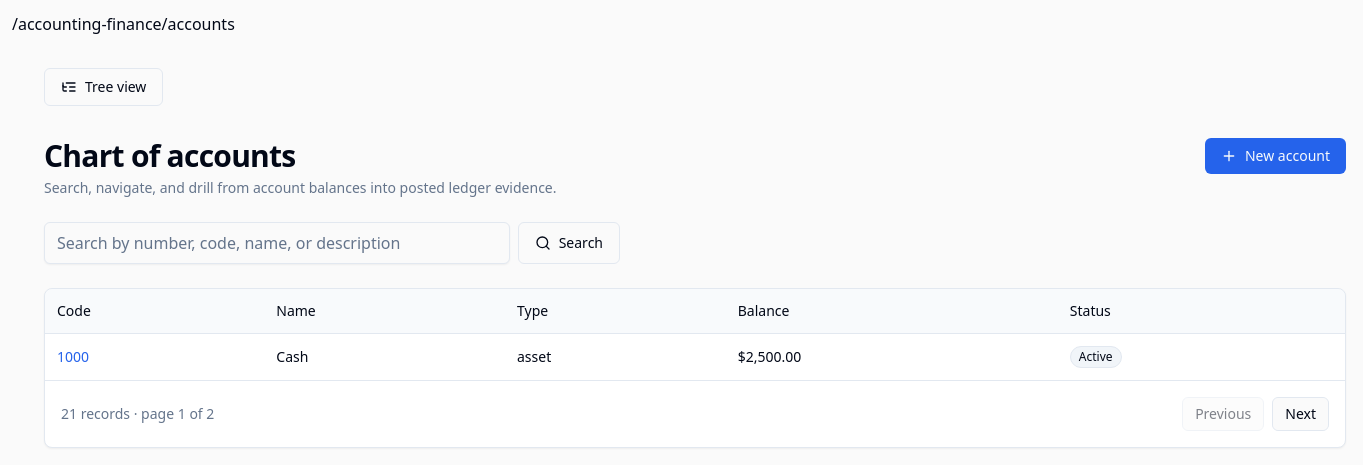
Test: accounting resource workflow pages › switches account resources from table to governed hierarchy view
The width and height of the screenshot is (1363, 465).
Check: the text "Cash" is shown, box [264,334,505,380]
Step 1. Click the button "Tree view" → (104, 87), box [44,68,163,106]
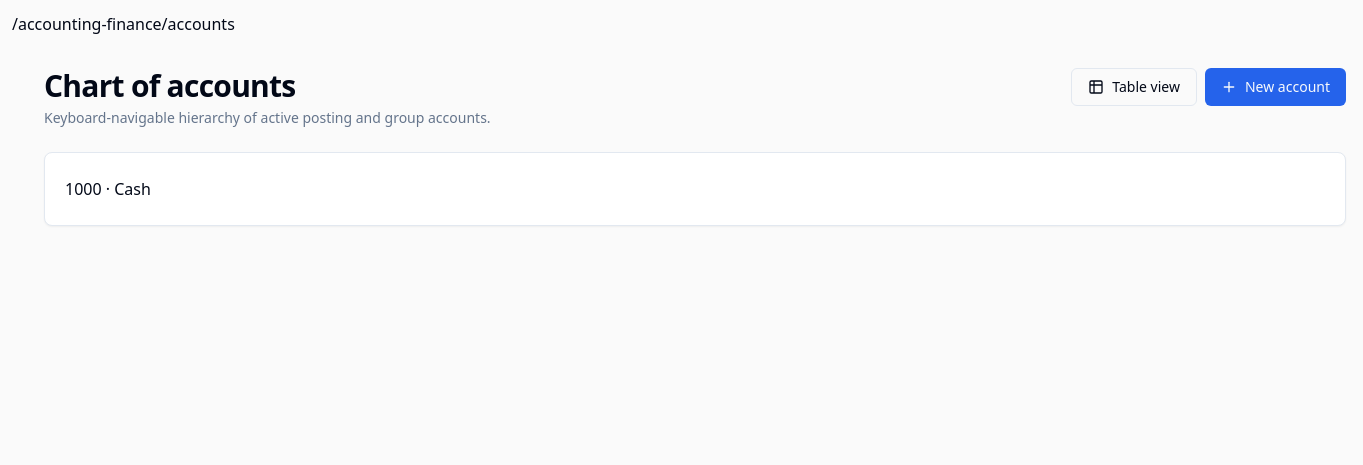
Check: the list named "Account hierarchy" is shown, box [65,178,151,200]
